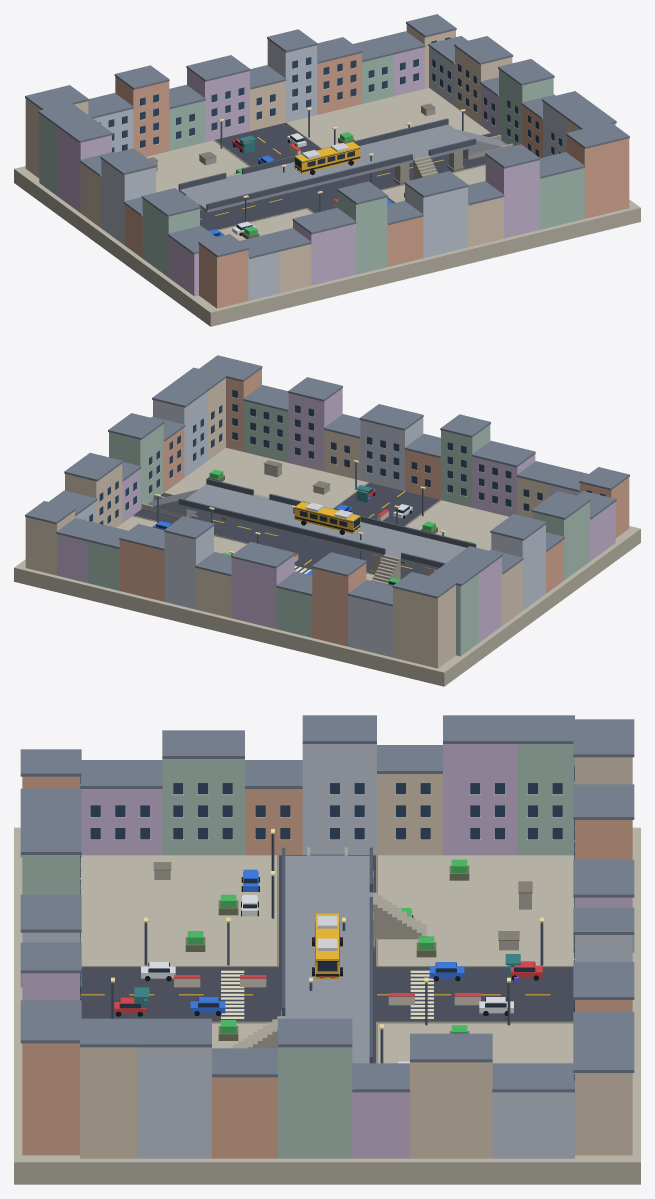
File: bridge.glb
3 renders of one model, top to bottom at view 1: azimuth 30°, elevation 25°; view 2: azimuth 150°, elevation 25°; view 3: azimuth 270°, elevation 25°, orthographic. The views are drawn at different scales.
Visible parts, largest first — view 1: bridge_Buildings_roofline, bridge_Ground_sidewalk, bridge_Buildings_bld3, bridge_Buildings_bld5, bridge_Buildings_bld4, bridge_Buildings_bld2, bridge_Buildings_bld1, bridge_Bridge_deck, bridge_Roads_asphalt, bridge_Windows_glass, bridge_Bridge_rail, bridge_Bus_busY (+3 smaller); view 2: bridge_Buildings_roofline, bridge_Ground_sidewalk, bridge_Buildings_bld1, bridge_Buildings_bld4, bridge_Buildings_bld5, bridge_Buildings_bld2, bridge_Buildings_bld3, bridge_Bridge_deck, bridge_Roads_asphalt, bridge_Windows_glass, bridge_Bridge_rail, bridge_Bridge_concrete (+2 smaller); view 3: bridge_Ground_sidewalk, bridge_Buildings_roofline, bridge_Buildings_bld1, bridge_Buildings_bld2, bridge_Buildings_bld4, bridge_Buildings_bld3, bridge_Buildings_bld5, bridge_Roads_asphalt, bridge_Bridge_deck, bridge_Windows_glass, bridge_Bridge_concrete, bridge_Roads_curb (+12 smaller).
Part boxes in pixels (x1,y1,x2,y2): bridge_Buildings_roofline: [25, 14, 629, 258]; bridge_Ground_sidewalk: [14, 88, 640, 326]; bridge_Buildings_bld3: [115, 53, 629, 308]; bridge_Buildings_bld5: [57, 47, 539, 296]; bridge_Buildings_bld4: [39, 55, 584, 277]; bridge_Buildings_bld2: [93, 39, 566, 300]; bridge_Buildings_bld1: [25, 24, 615, 293]; bridge_Bridge_deck: [178, 124, 505, 212]; bridge_Roads_asphalt: [200, 123, 494, 230]; bridge_Windows_glass: [99, 37, 562, 156]; bridge_Bridge_rail: [178, 118, 476, 209]; bridge_Bus_busY: [294, 142, 360, 173]; bridge_Buildings_roofline: [25, 355, 629, 606]; bridge_Ground_sidewalk: [14, 447, 640, 686]; bridge_Buildings_bld1: [25, 378, 548, 668]; bridge_Buildings_bld4: [88, 401, 589, 656]; bridge_Buildings_bld5: [57, 388, 615, 642]; bridge_Buildings_bld2: [75, 391, 579, 657]; bridge_Buildings_bld3: [119, 368, 629, 646]; bridge_Bridge_deck: [148, 484, 466, 569]; bridge_Roads_asphalt: [134, 483, 439, 579]; bridge_Windows_glass: [84, 389, 605, 524]; bridge_Bridge_rail: [178, 478, 476, 567]; bridge_Bridge_concrete: [141, 494, 400, 584]; bridge_Ground_sidewalk: [14, 827, 640, 1184]; bridge_Buildings_roofline: [20, 715, 634, 1092]; bridge_Buildings_bld1: [80, 757, 632, 1158]; bridge_Buildings_bld2: [22, 744, 632, 1158]; bridge_Buildings_bld4: [22, 744, 574, 1158]; bridge_Buildings_bld3: [22, 776, 632, 1158]; bridge_Buildings_bld5: [22, 744, 632, 1158]; bridge_Roads_asphalt: [80, 855, 574, 1063]; bridge_Bridge_deck: [282, 855, 372, 1063]; bridge_Windows_glass: [80, 765, 574, 1080]; bridge_Bridge_concrete: [228, 847, 426, 1048]; bridge_Roads_curb: [81, 854, 573, 1063].
Size of the model in its own units: 96 by 18.4 by 76.
